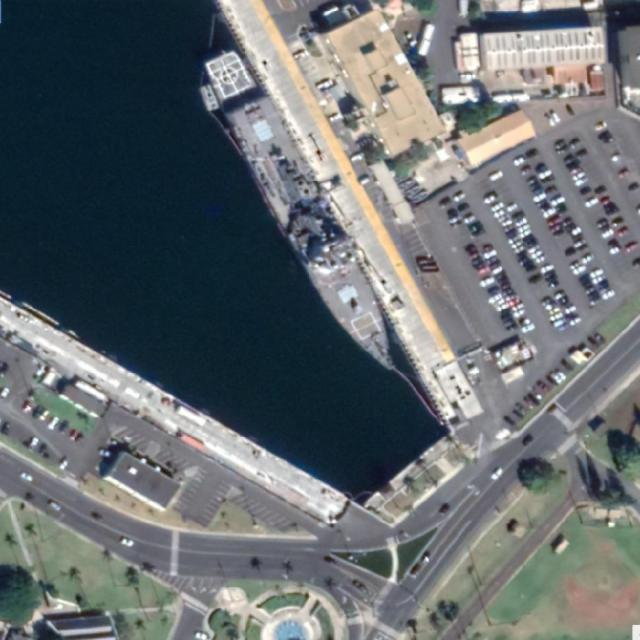Destroyer: (194, 45, 412, 383)
